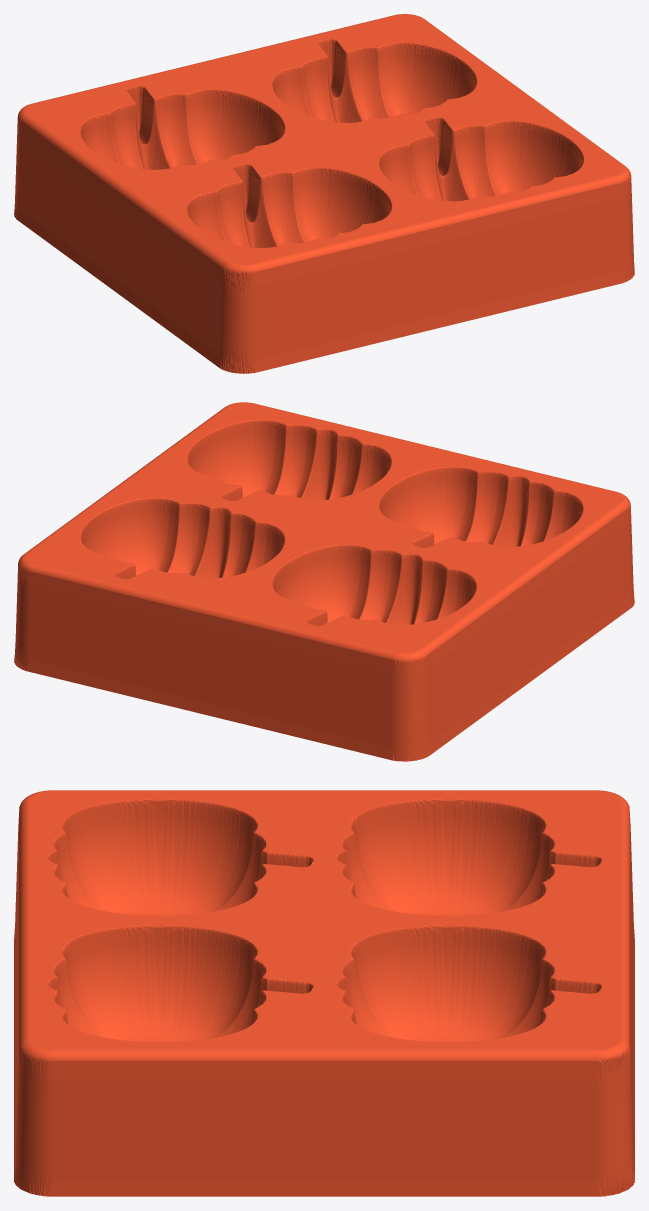
File: mold.glb
The picture shows the model from 3 angles, top to bottom: view 1: azimuth 30°, elevation 25°; view 2: azimuth 150°, elevation 25°; view 3: azimuth 270°, elevation 25°; orthographic projection. The views are drawn at different scales.
Parts seen in each view (by area): view 1: geometry_0; view 2: geometry_0; view 3: geometry_0.
Boxes of the visible parts, x1,y1,x2,y2 form: geometry_0: [14, 14, 634, 373]; geometry_0: [14, 402, 634, 761]; geometry_0: [14, 790, 634, 1196].
Bounding box in the file's own units: 0.1493 × 0.036 × 0.1443.
